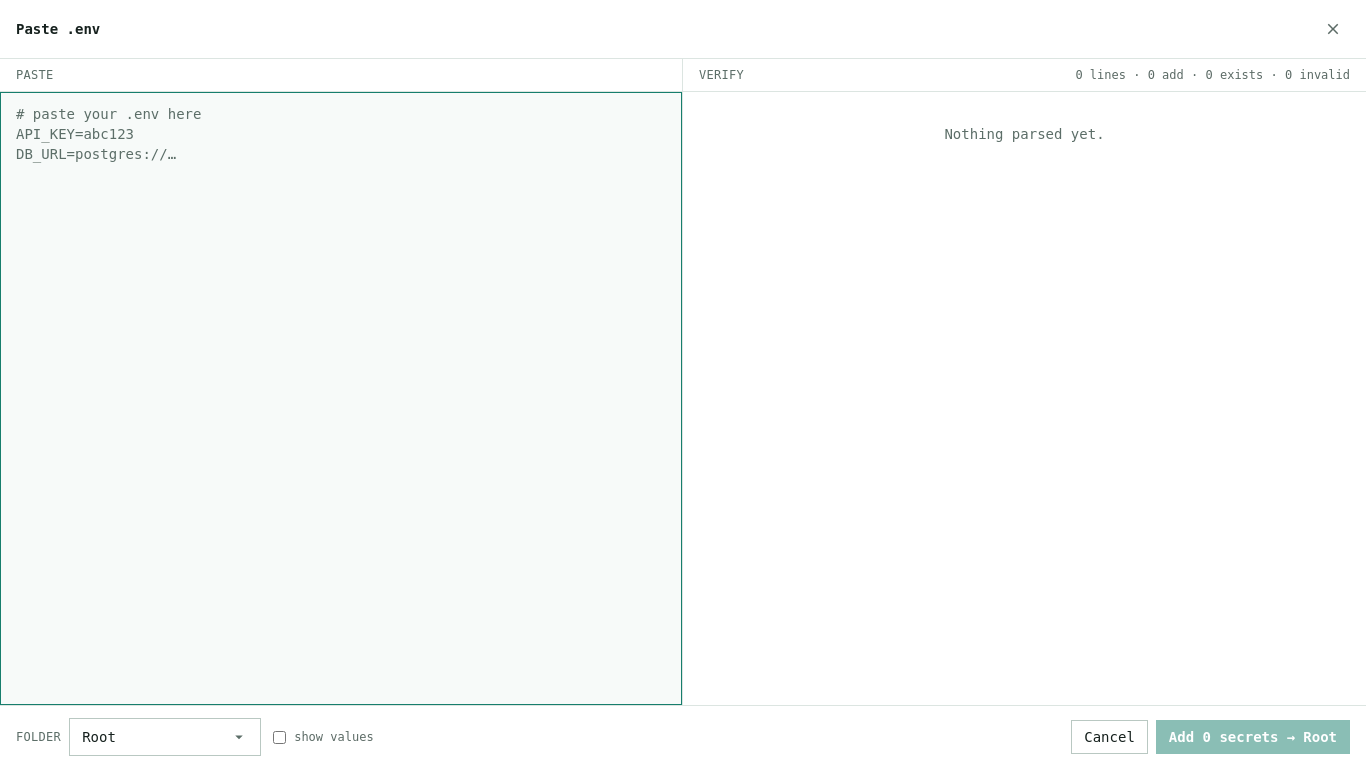
Test: BulkAddSheet verification ledger › masks values unless 'show values' is toggled
The width and height of the screenshot is (1366, 768).
Type "SECRET=supersecret" into the text box with placeholder "# paste your .env here API_KEY=abc123 DB_URL=postgres://…" at (341, 398), box [0, 92, 682, 705]
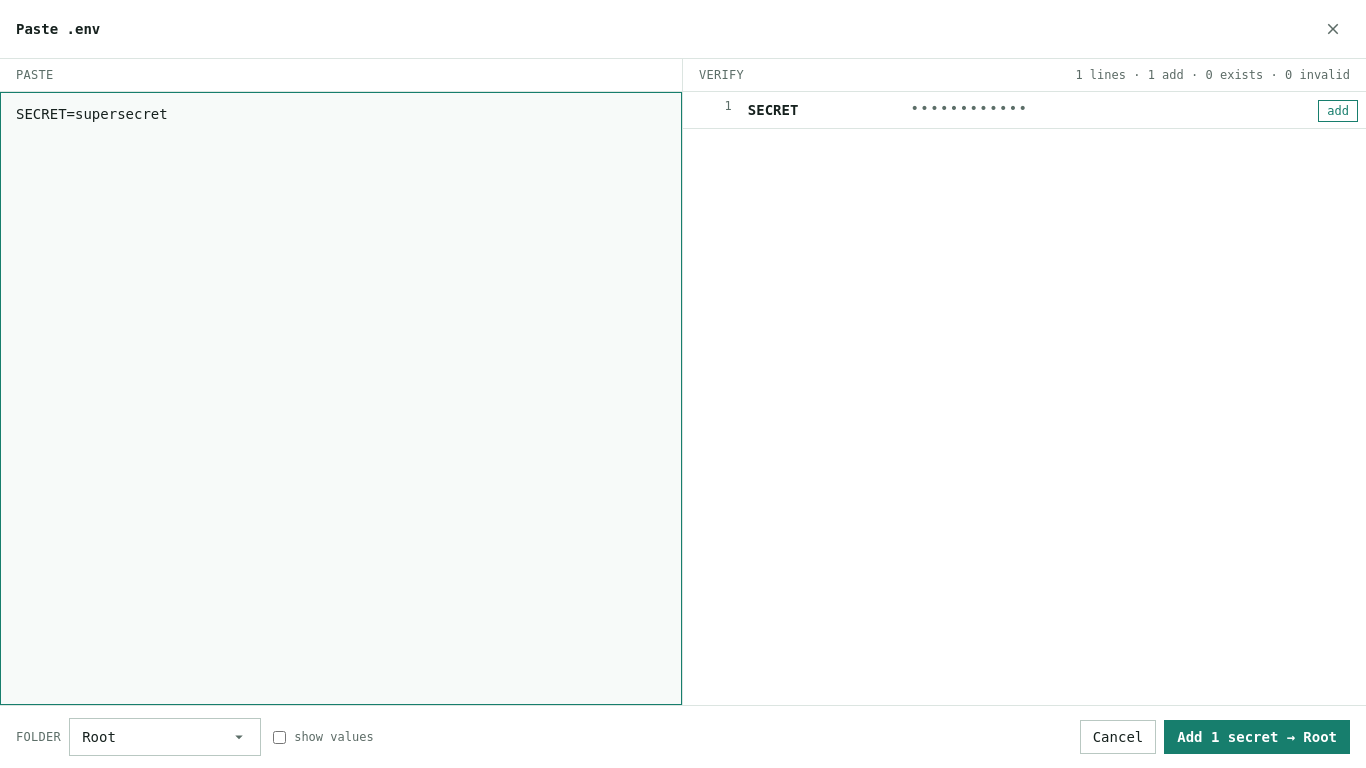
Click the checkbox labelled "show values" at (280, 737), box [273, 730, 286, 744]
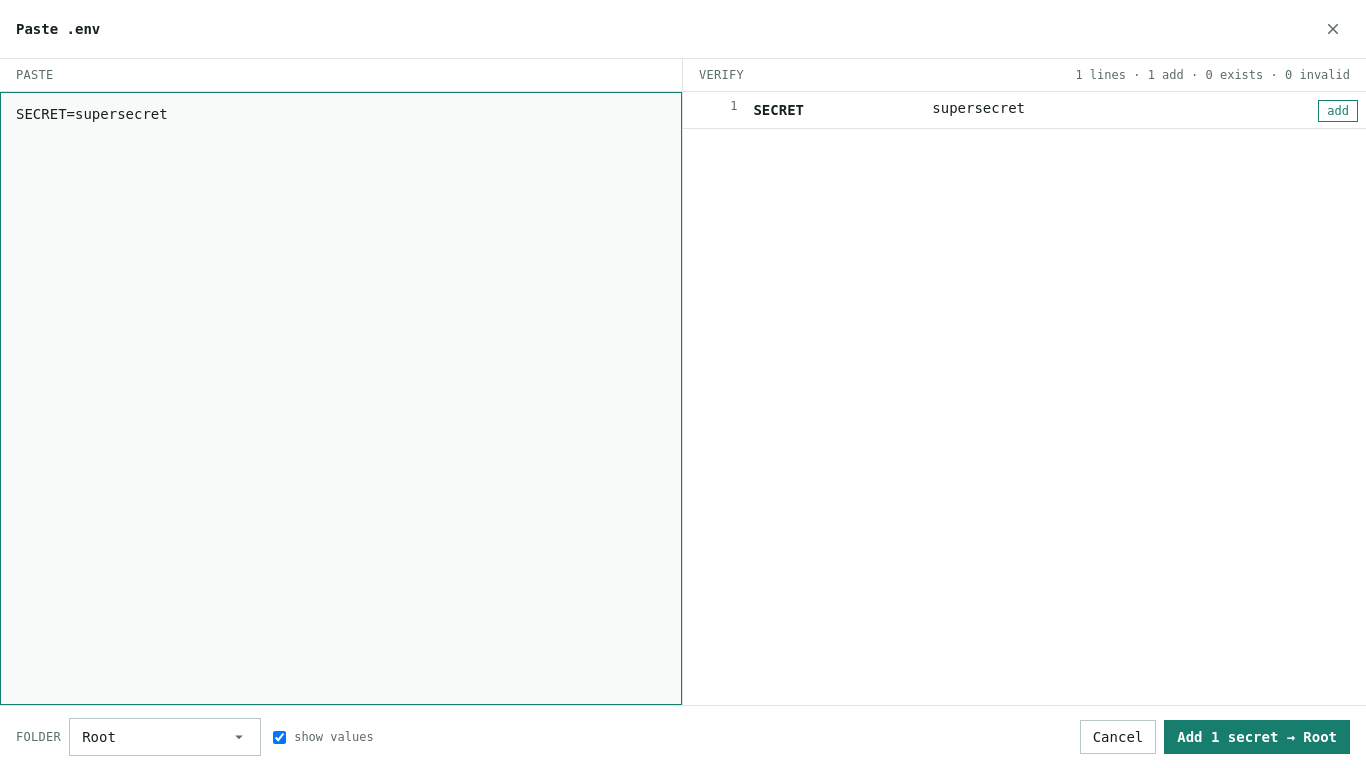
Check: the text "supersecret" is shown, box [932, 100, 1025, 116]
